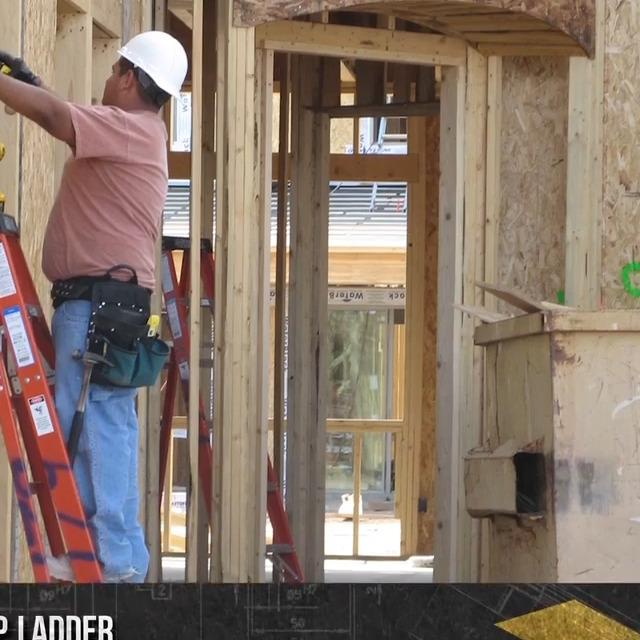Gloves: (0, 47, 40, 85)
Hardhat: (117, 30, 188, 99)
Ladder: (134, 235, 308, 584), (0, 208, 103, 581)
NO-Mask: (102, 76, 123, 103)
NO-Safety Vest: (41, 109, 166, 276)
Person: (0, 28, 170, 580)
